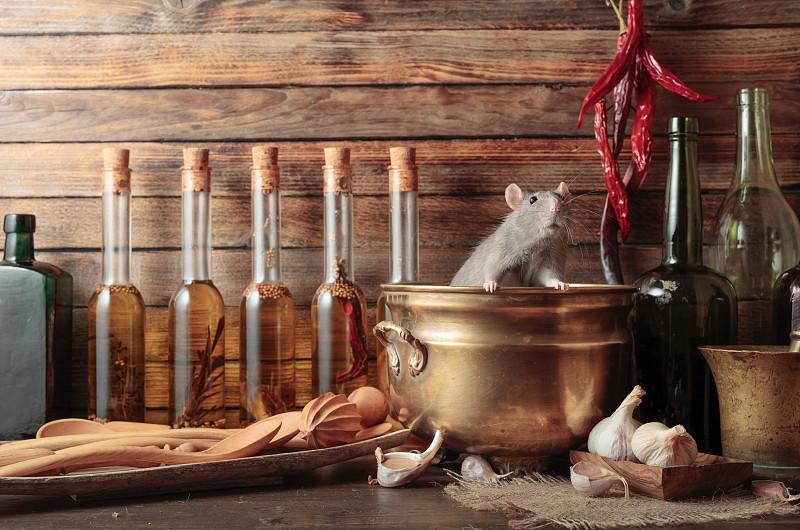rat: (448, 177, 575, 293)
